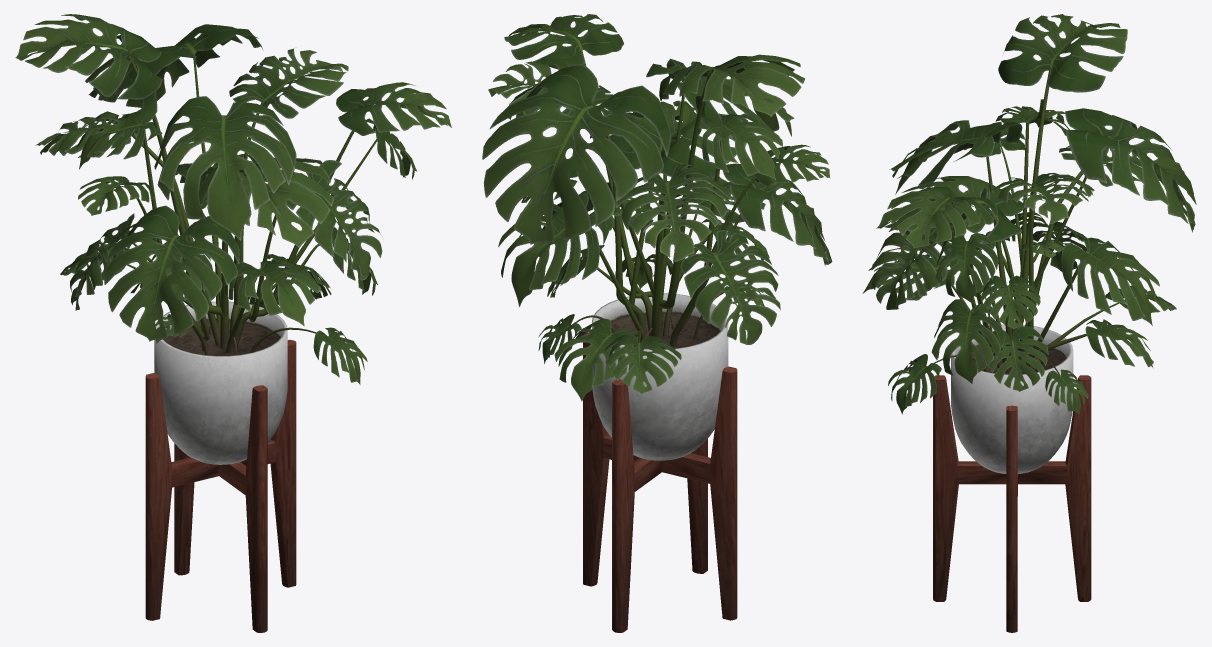
Rendered from monstera.glb.
The picture shows the model from 3 angles, left to right: view 1: azimuth 30°, elevation 25°; view 2: azimuth 150°, elevation 25°; view 3: azimuth 270°, elevation 25°; orthographic projection. The views are drawn at different scales.
Parts seen in each view (by area): view 1: Leaves, Stand, Pot_LP, root_HP_1_Mat.2_0; view 2: Leaves, Stand, Pot_LP, root_HP_1_Mat.2_0; view 3: Leaves, Stand, Pot_LP, root_HP_1_Mat.2_0.
Boxes of the visible parts, x1,y1,x2,y2 form: Leaves: (15,14,451,384); Stand: (145,339,296,632); Pot_LP: (154,301,287,464); root_HP_1_Mat.2_0: (124,53,376,355); Leaves: (482,14,832,401); Stand: (583,332,737,632); Pot_LP: (592,293,728,460); root_HP_1_Mat.2_0: (559,50,755,346); Leaves: (862,14,1196,414); Stand: (933,375,1091,632); Pot_LP: (951,324,1073,473); root_HP_1_Mat.2_0: (933,68,1124,375).
Size of the model in its own units: 1.01 by 1.58 by 0.9162.
Materials: 3 (3 with a texture image).
